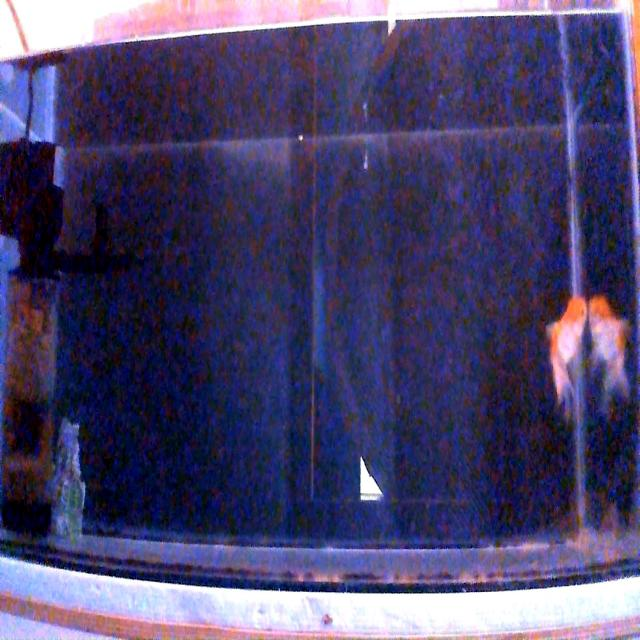fish: (547, 297, 587, 402), (590, 296, 626, 393)
